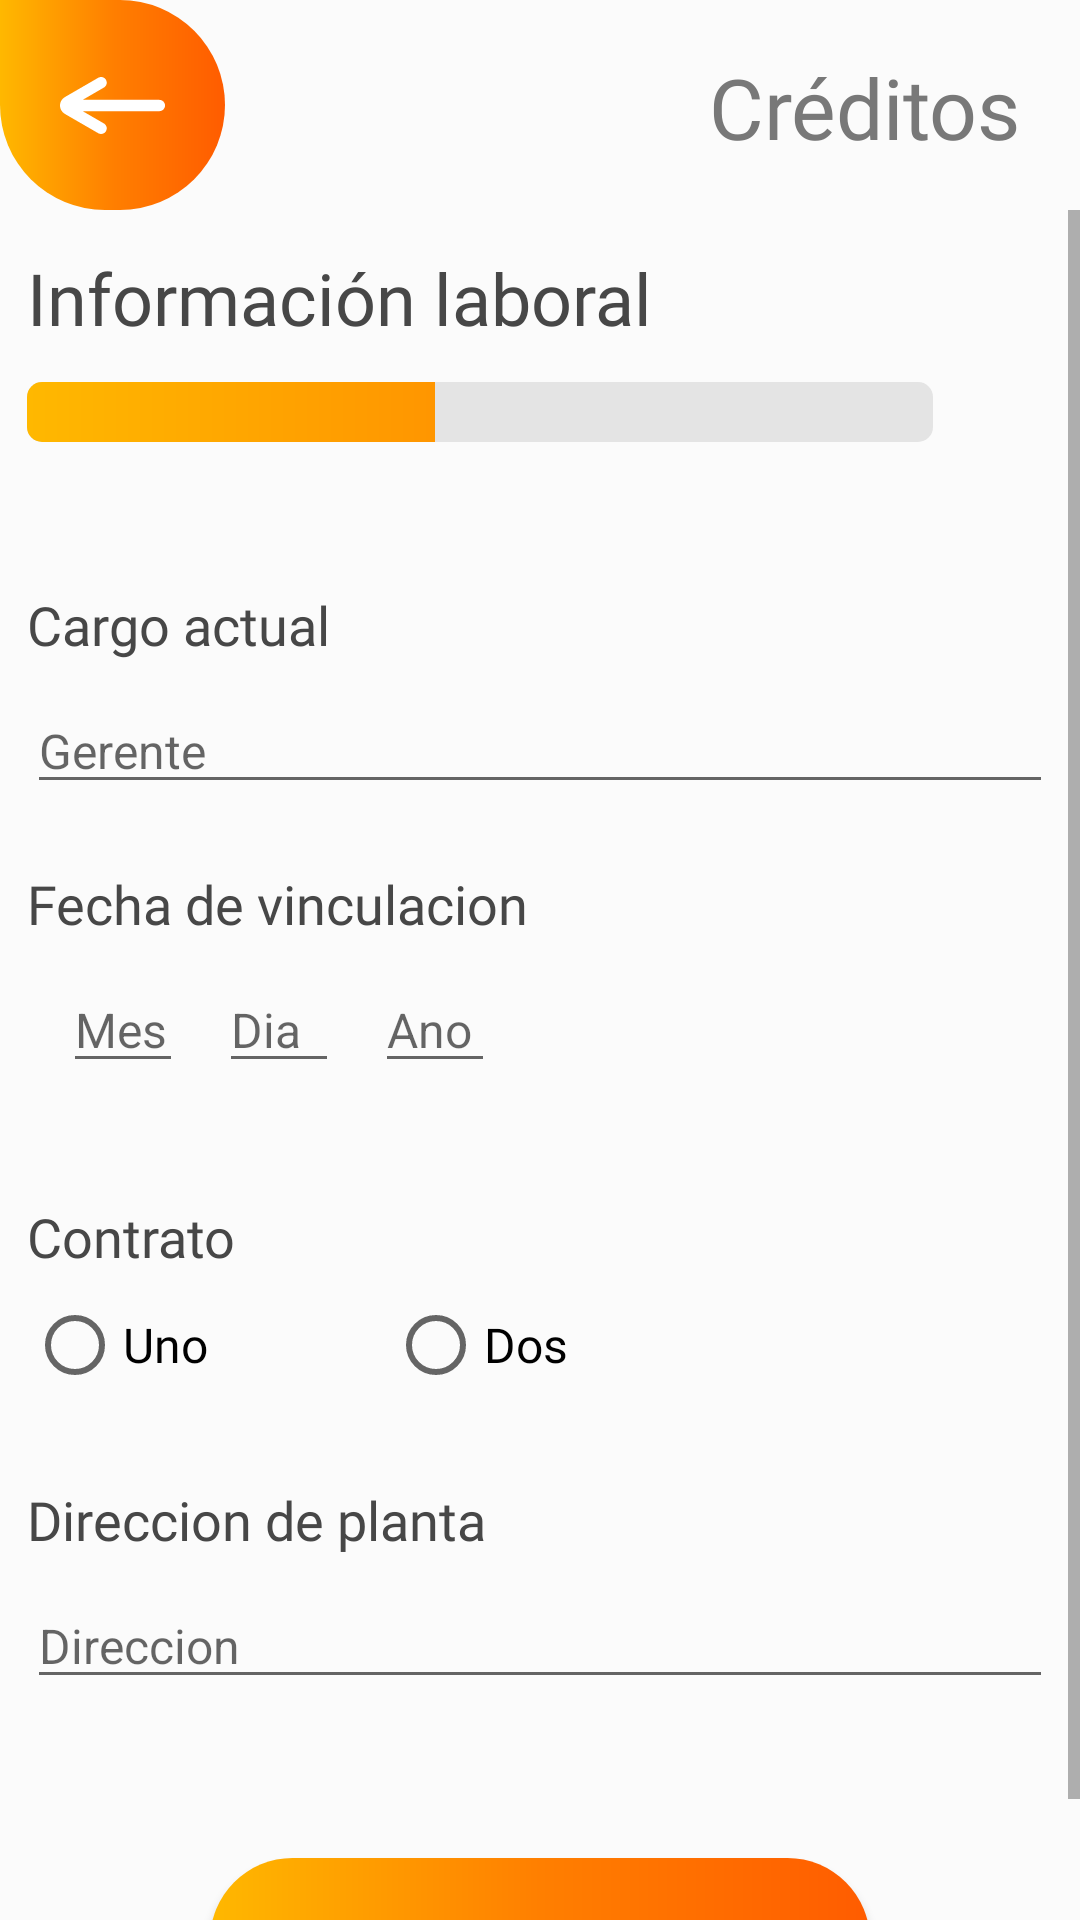

Icon click points for this 1080w x 1920h phone screenshot, format (x,y):
backarrow: (112,105)
